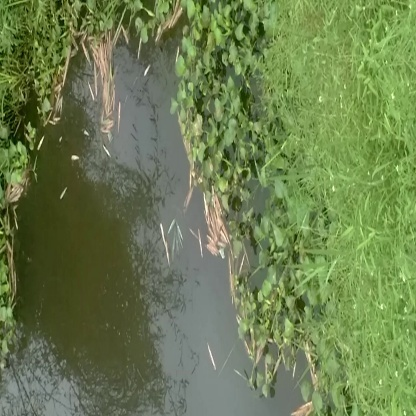leaf: (92, 51, 128, 138)
